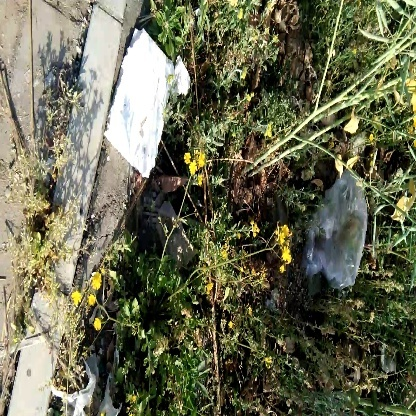plastic-bag: (308, 167, 367, 294)
